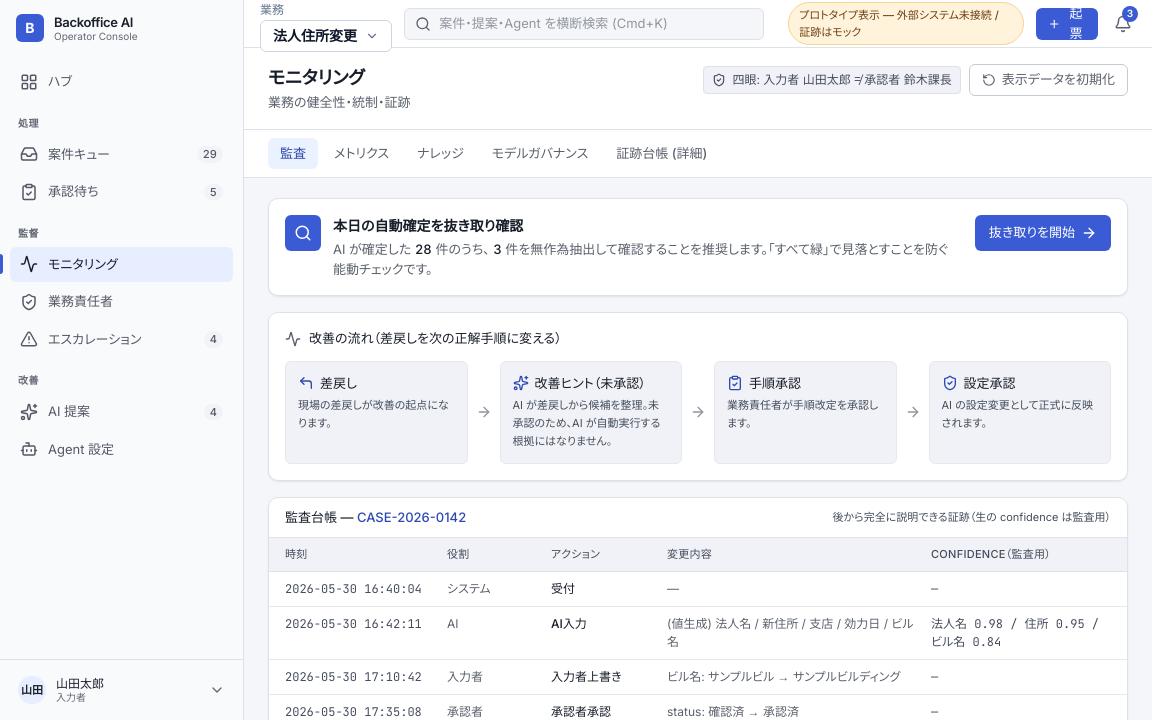
P0-W3 flywheel: ナレッジ「改善の流れ」に承認段階の提案が出る › Observatory ナレッジ → 改善の流れ view に承認済 提案 + staging 段が出る
Step 1. Click the button "ナレッジ" → (440, 153), box top-left (405, 138), bottom-right (476, 169)
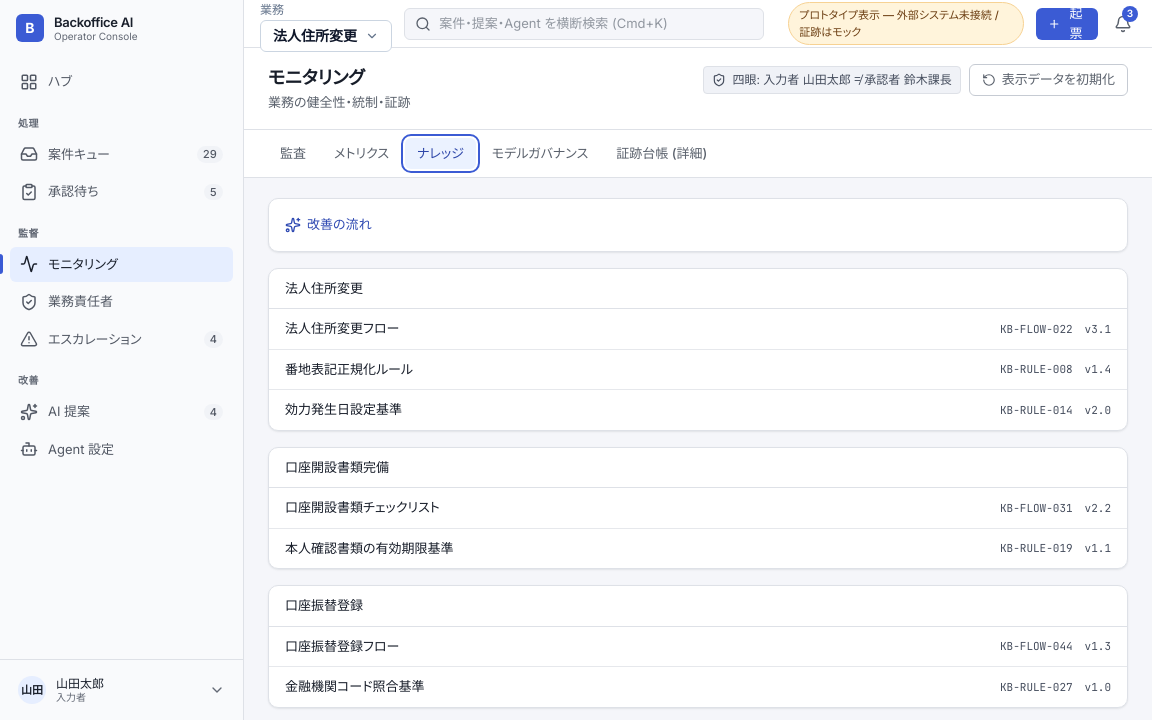
Step 2. Click the button "改善の流れ" → (328, 225), box top-left (285, 215), bottom-right (372, 234)
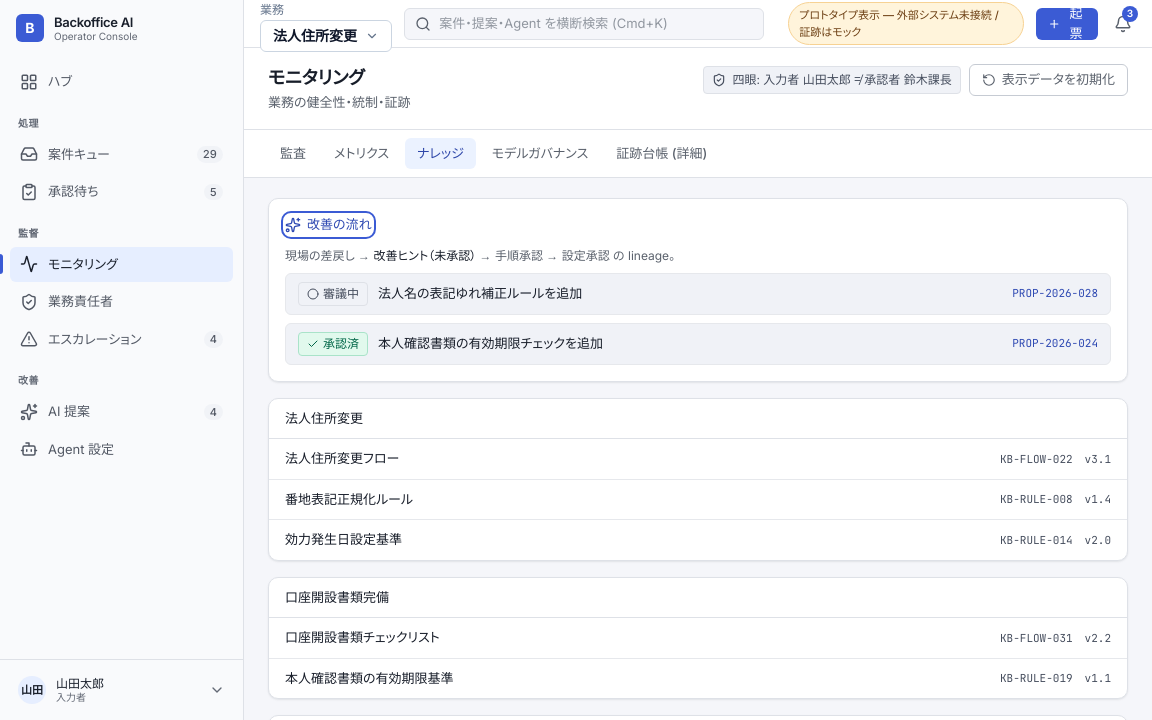
Check: the text "本人確認書類の有効期限チェックを追加" is shown, box top-left (378, 335), bottom-right (603, 351)
Check: the text "承認済" is shown, box top-left (298, 332), bottom-right (368, 356)
Check: the text "改善ヒント（未承認）" is shown, box top-left (374, 248), bottom-right (476, 262)
